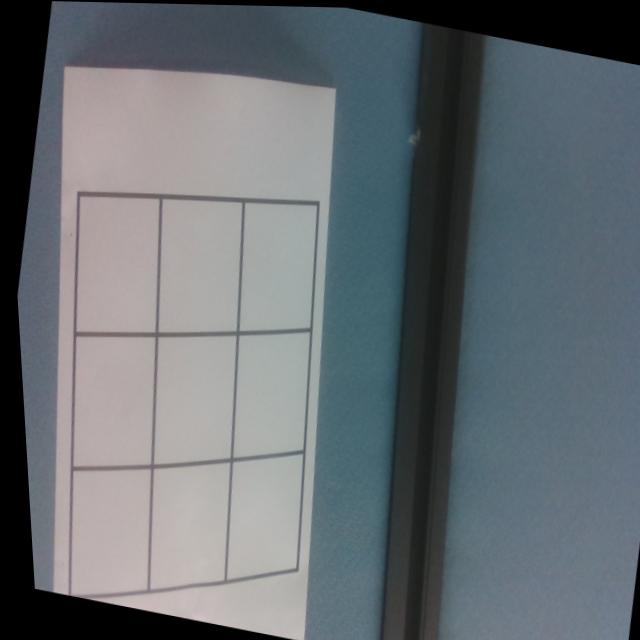null: (50, 178, 174, 346), (135, 184, 258, 350), (46, 317, 167, 479), (130, 317, 249, 477), (220, 187, 329, 343), (47, 456, 159, 604), (213, 316, 320, 469), (128, 451, 237, 600), (205, 439, 310, 591)
table: (61, 177, 321, 596)
